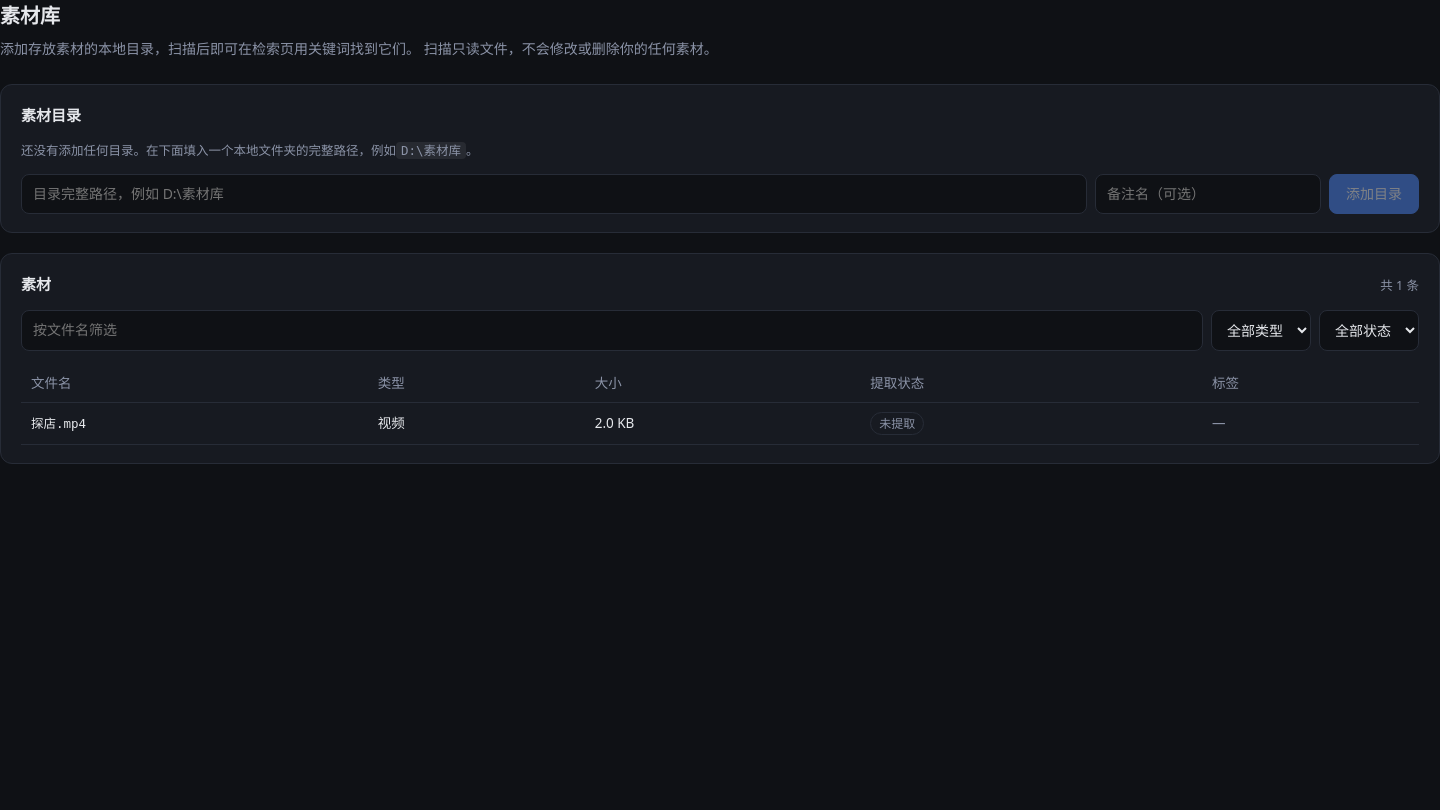
it: 素材库页面 › 提取入口 › 视频：说清楚提取的是语音，画面上的字要等 OCR
Click the text "探店.mp4": point(194, 424) [21,403,368,445]
(page scrolled)
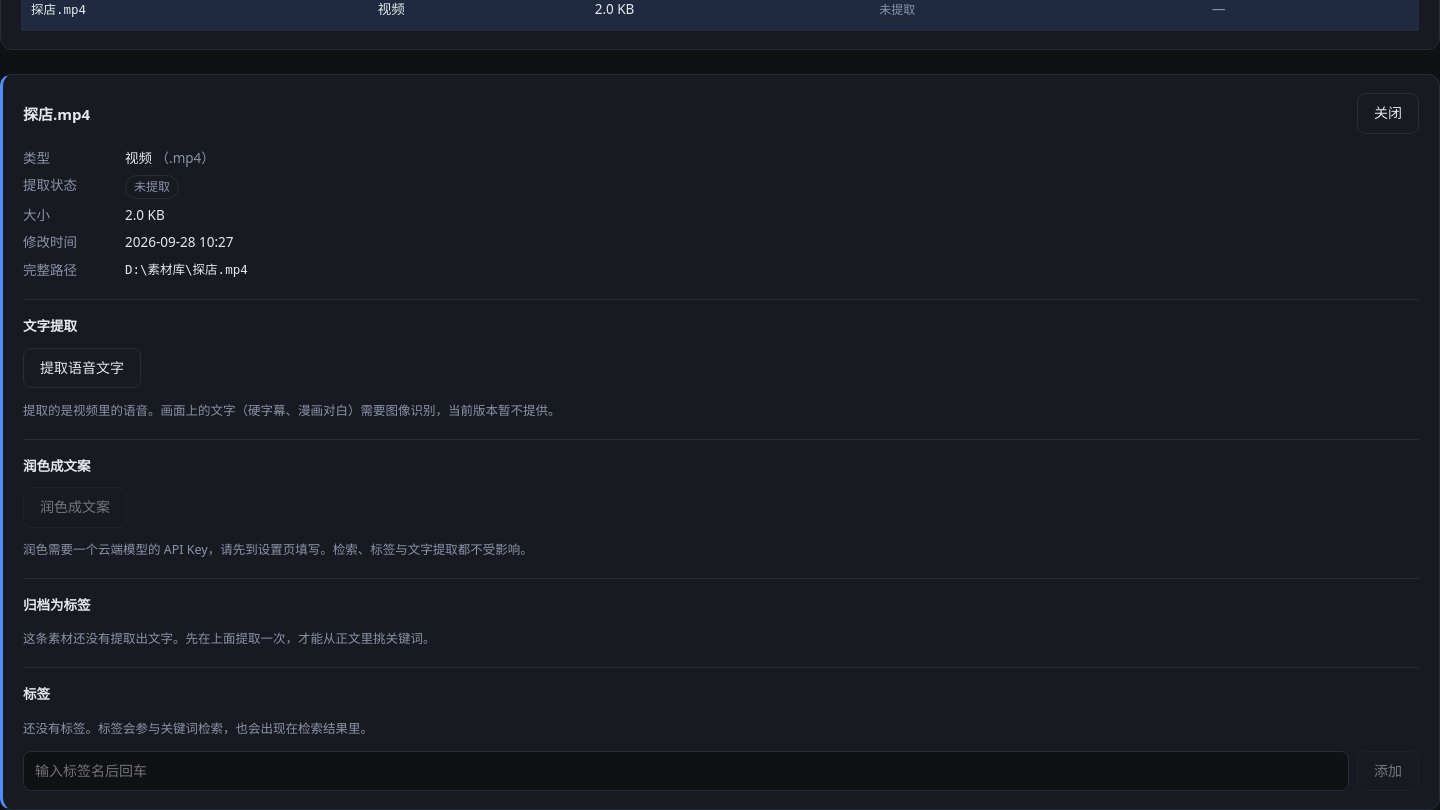
Expected: the button "提取语音文字" is enabled, [23,348,141,388]
Expected: the text "提取的是视频里的语音。画面上的文字（硬字幕、漫画对白）需要图像识别，当前版本暂不提供。" is shown, [23,402,560,419]
